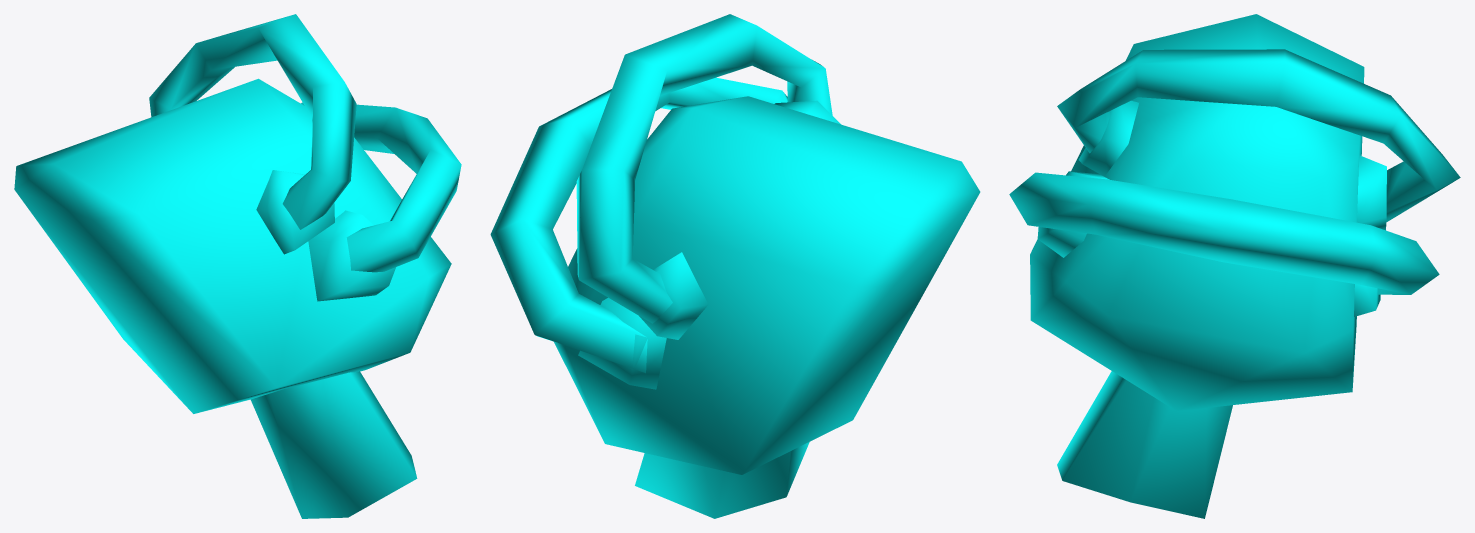
The model's file is arm_l.obj.
3 views of the same model, side by side, from view 1: azimuth 30°, elevation 25°; view 2: azimuth 150°, elevation 25°; view 3: azimuth 270°, elevation 25° (orthographic). The views are drawn at different scales.
Parts seen in each view (by area): view 1: arm_l:transformblitzcrank_transformblitzcrank; view 2: arm_l:transformblitzcrank_transformblitzcrank; view 3: arm_l:transformblitzcrank_transformblitzcrank.
Boxes of the visible parts, x1=… form: arm_l:transformblitzcrank_transformblitzcrank: x1=14, y1=14, x2=461, y2=518; arm_l:transformblitzcrank_transformblitzcrank: x1=490, y1=14, x2=980, y2=518; arm_l:transformblitzcrank_transformblitzcrank: x1=1009, y1=14, x2=1460, y2=518.
Size of the model in its own units: 4.18 by 4.79 by 4.27.
